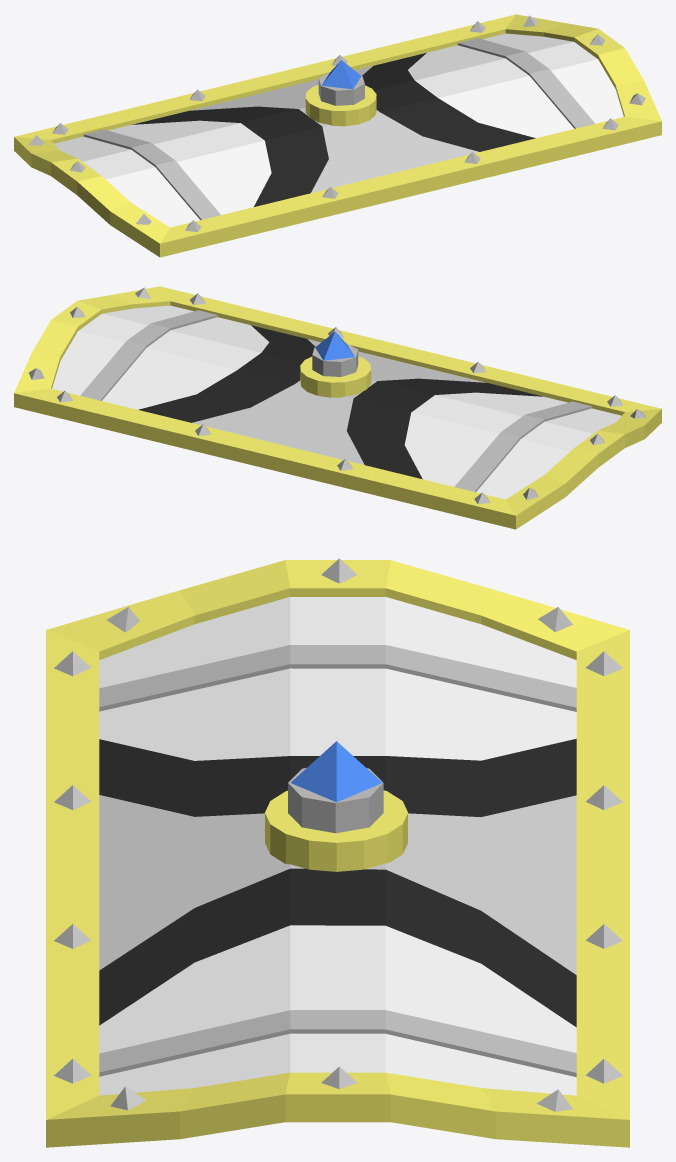
Rendered from Shield_2_e_w.fbx.
3 views of the same model, one above another, from view 1: azimuth 30°, elevation 25°; view 2: azimuth 150°, elevation 25°; view 3: azimuth 270°, elevation 25° (orthographic). The views are drawn at different scales.
Parts seen in each view (by area): view 1: Plane.223, Plane.235, Plane.219, Plane.218, Plane.221, Plane.222, Circle.323, Cone.391, Circle.324, Cone.392; view 2: Plane.223, Plane.235, Plane.219, Plane.218, Plane.222, Plane.221, Circle.323, Cone.391, Circle.324, Cone.392; view 3: Plane.235, Plane.223, Plane.219, Plane.218, Plane.222, Plane.221, Circle.323, Cone.391, Circle.324, Cone.392.
Part boxes in pixels (x1,y1,x2,y2): Plane.223: (14, 14, 661, 257); Plane.235: (54, 33, 623, 227); Plane.219: (132, 53, 535, 206); Plane.218: (190, 66, 478, 192); Plane.221: (457, 38, 595, 128); Plane.222: (83, 129, 220, 219); Circle.323: (305, 85, 376, 126); Cone.391: (28, 15, 645, 231); Circle.324: (318, 72, 364, 105); Cone.392: (322, 60, 361, 89); Plane.223: (14, 286, 661, 529); Plane.235: (52, 305, 621, 499); Plane.219: (138, 325, 542, 479); Plane.218: (192, 339, 486, 464); Plane.222: (454, 401, 591, 492); Plane.221: (80, 310, 217, 400); Circle.323: (300, 356, 371, 397); Cone.391: (28, 287, 646, 504); Circle.324: (312, 343, 358, 376); Cone.392: (315, 331, 354, 360); Plane.235: (99, 597, 576, 1095); Plane.223: (46, 560, 629, 1147); Plane.219: (99, 738, 576, 1027); Plane.218: (99, 795, 576, 974); Plane.222: (99, 645, 576, 711); Plane.221: (99, 1010, 576, 1076); Circle.323: (265, 790, 407, 871); Cone.391: (54, 558, 622, 1111); Circle.324: (288, 768, 383, 833); Cone.392: (290, 741, 382, 802).
Size of the model in its own units: 132 by 24.84 by 61.17.
